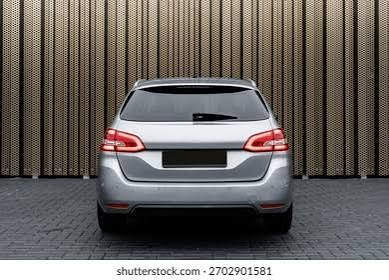car: (94, 76, 283, 233)
